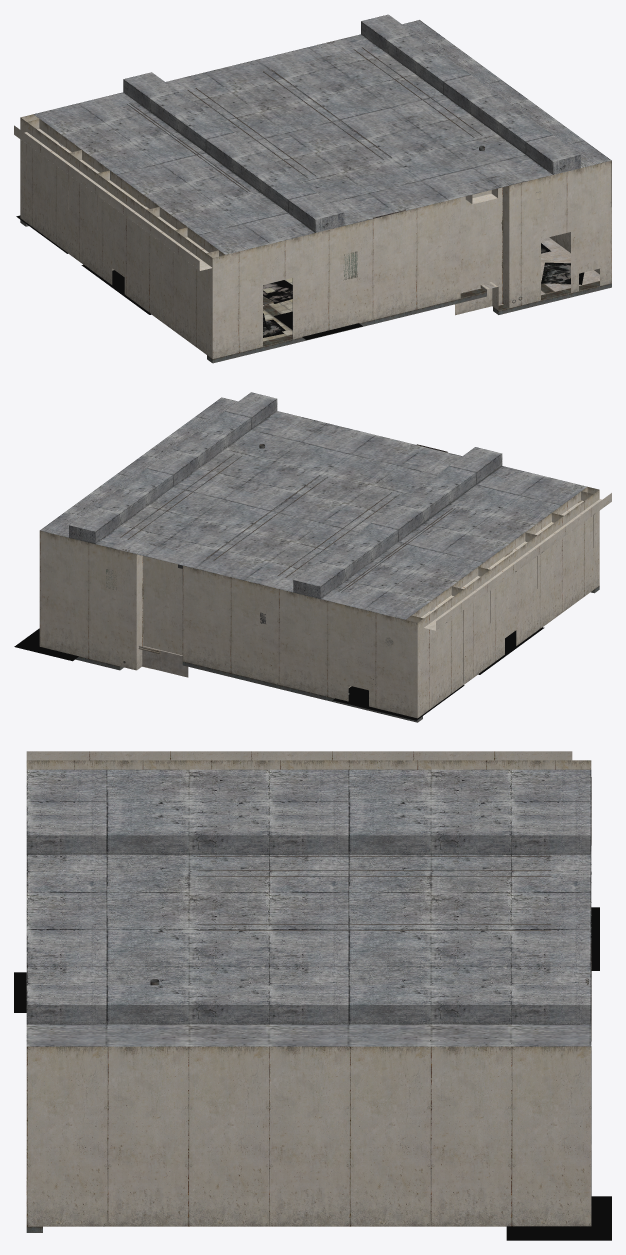
3 views of the same model, one above another, from view 1: azimuth 30°, elevation 25°; view 2: azimuth 150°, elevation 25°; view 3: azimuth 270°, elevation 25° (orthographic). The views are drawn at different scales.
Parts seen in each view (by area): view 1: LOD_1_Group_0_Sub_1__st3_policeUndergroundCeiling04, LOD_1_Group_0_Sub_4__st3_policeUndergroundWall09, LOD_1_Group_0_Sub_2__st3_policeUndergroundSteelrail01___07f2, LOD_1_Group_0_Sub_10__st2_police1fLeftPipeline01, LOD_1_Group_0_Sub_7__st2_police1fRightDirt02__Env_Decal, LOD_1_Group_0_Sub_3__st3_policeUndergroundFloor08, LOD_1_Group_0_Sub_8__st2_FloorWater01__Env_Decal, LOD_1_Group_0_Sub_9__st2_police1fRightFloor01; view 2: LOD_1_Group_0_Sub_1__st3_policeUndergroundCeiling04, LOD_1_Group_0_Sub_4__st3_policeUndergroundWall09, LOD_1_Group_0_Sub_8__st2_FloorWater01__Env_Decal, LOD_1_Group_0_Sub_2__st3_policeUndergroundSteelrail01___07f2, LOD_1_Group_0_Sub_10__st2_police1fLeftPipeline01, LOD_1_Group_0_Sub_3__st3_policeUndergroundFloor08; view 3: LOD_1_Group_0_Sub_1__st3_policeUndergroundCeiling04, LOD_1_Group_0_Sub_4__st3_policeUndergroundWall09, LOD_1_Group_0_Sub_8__st2_FloorWater01__Env_Decal, LOD_1_Group_0_Sub_10__st2_police1fLeftPipeline01, LOD_1_Group_0_Sub_2__st3_policeUndergroundSteelrail01___07f2.
Part boxes in pixels (x1,y1,x2,y2): LOD_1_Group_0_Sub_1__st3_policeUndergroundCeiling04: [33, 14, 611, 254]; LOD_1_Group_0_Sub_4__st3_policeUndergroundWall09: [14, 114, 611, 358]; LOD_1_Group_0_Sub_2__st3_policeUndergroundSteelrail01___07f2: [20, 33, 611, 363]; LOD_1_Group_0_Sub_10__st2_police1fLeftPipeline01: [127, 41, 522, 303]; LOD_1_Group_0_Sub_7__st2_police1fRightDirt02__Env_Decal: [263, 243, 584, 337]; LOD_1_Group_0_Sub_3__st3_policeUndergroundFloor08: [263, 237, 599, 305]; LOD_1_Group_0_Sub_8__st2_FloorWater01__Env_Decal: [16, 215, 362, 339]; LOD_1_Group_0_Sub_9__st2_police1fRightFloor01: [263, 278, 292, 341]; LOD_1_Group_0_Sub_1__st3_policeUndergroundCeiling04: [40, 392, 586, 619]; LOD_1_Group_0_Sub_4__st3_policeUndergroundWall09: [39, 486, 611, 718]; LOD_1_Group_0_Sub_8__st2_FloorWater01__Env_Decal: [14, 627, 544, 720]; LOD_1_Group_0_Sub_2__st3_policeUndergroundSteelrail01___07f2: [69, 410, 599, 722]; LOD_1_Group_0_Sub_10__st2_police1fLeftPipeline01: [120, 444, 455, 663]; LOD_1_Group_0_Sub_3__st3_policeUndergroundFloor08: [142, 646, 188, 677]; LOD_1_Group_0_Sub_1__st3_policeUndergroundCeiling04: [26, 769, 591, 1046]; LOD_1_Group_0_Sub_4__st3_policeUndergroundWall09: [26, 751, 591, 1226]; LOD_1_Group_0_Sub_8__st2_FloorWater01__Env_Decal: [14, 907, 611, 1240]; LOD_1_Group_0_Sub_10__st2_police1fLeftPipeline01: [150, 856, 591, 985]; LOD_1_Group_0_Sub_2__st3_policeUndergroundSteelrail01___07f2: [26, 853, 590, 1232].
Size of the model in its own units: 16.01 by 4.95 by 13.07.
